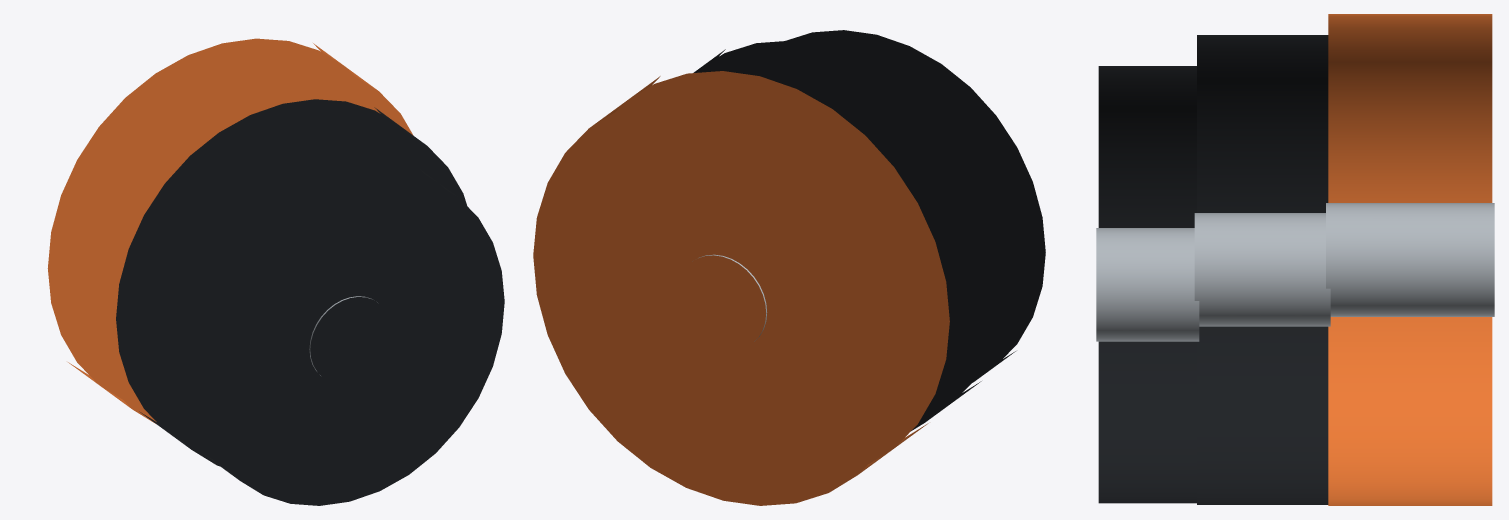
The model's file is foundry-bumper-plates.glb.
The picture shows the model from 3 angles, left to right: view 1: azimuth 30°, elevation 25°; view 2: azimuth 150°, elevation 25°; view 3: azimuth 270°, elevation 25°; orthographic projection. The views are drawn at different scales.
Parts seen in each view (by area): view 1: Black bumper rubber parts, Burnt orange weight marking parts; view 2: Burnt orange weight marking parts, Black bumper rubber parts; view 3: Black bumper rubber parts, Burnt orange weight marking parts, Brushed steel hubs parts.
Boxes of the visible parts, x1=… form: Black bumper rubber parts: x1=116, y1=99, x2=504, y2=505; Burnt orange weight marking parts: x1=47, y1=38, x2=413, y2=423; Burnt orange weight marking parts: x1=533, y1=71, x2=949, y2=505; Black bumper rubber parts: x1=693, y1=30, x2=1045, y2=430; Black bumper rubber parts: x1=1098, y1=35, x2=1328, y2=504; Burnt orange weight marking parts: x1=1328, y1=14, x2=1492, y2=505; Brushed steel hubs parts: x1=1096, y1=203, x2=1494, y2=341.
Bounding box in the file's own units: 0.45 × 0.45 × 0.364.
